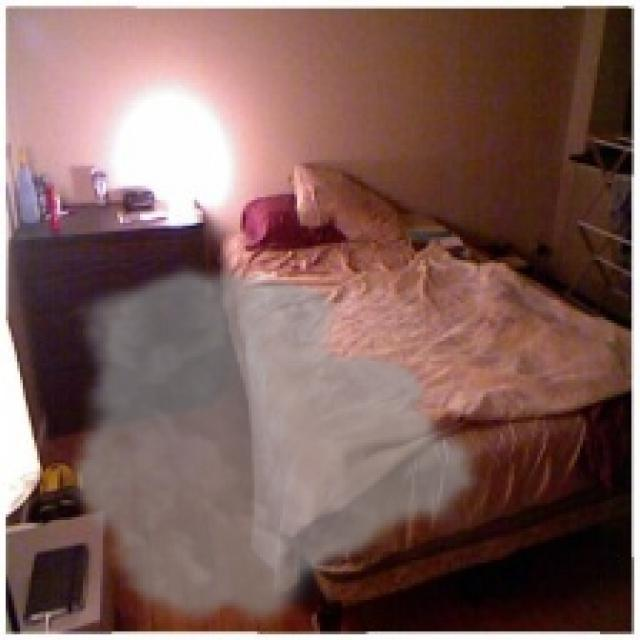Smoke: (66, 260, 488, 634)
